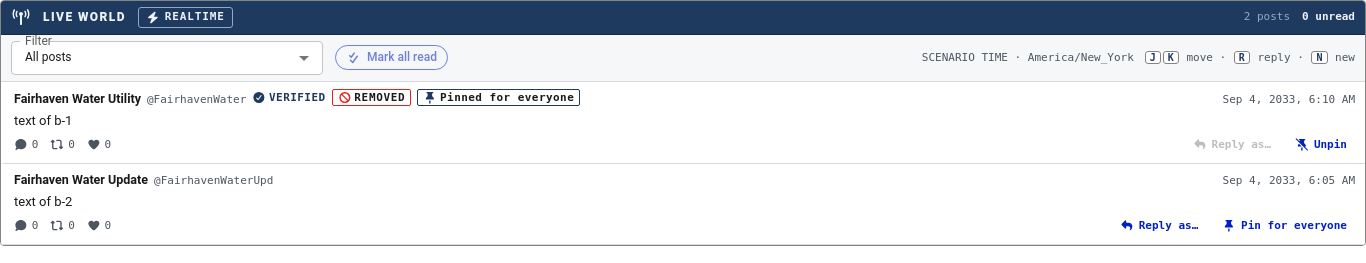
Test: AC — Pin for everyone / Unpin › offers Unpin ONLY on a taken-down row that is still pinned
What coordinates should you click on to do the following:
click the button with test id "live-world-pin" showing "Unpin"
I would click on:
 (1321, 145)
Its box is [1287,133,1355,156].
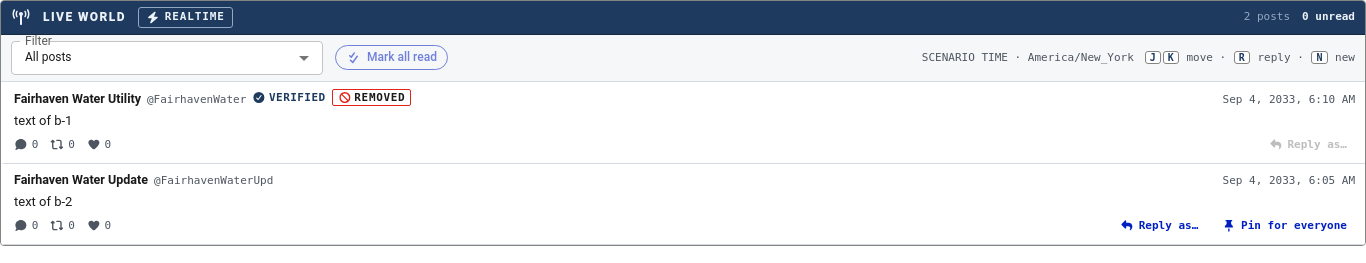
Now the button "Unpin" is gone
